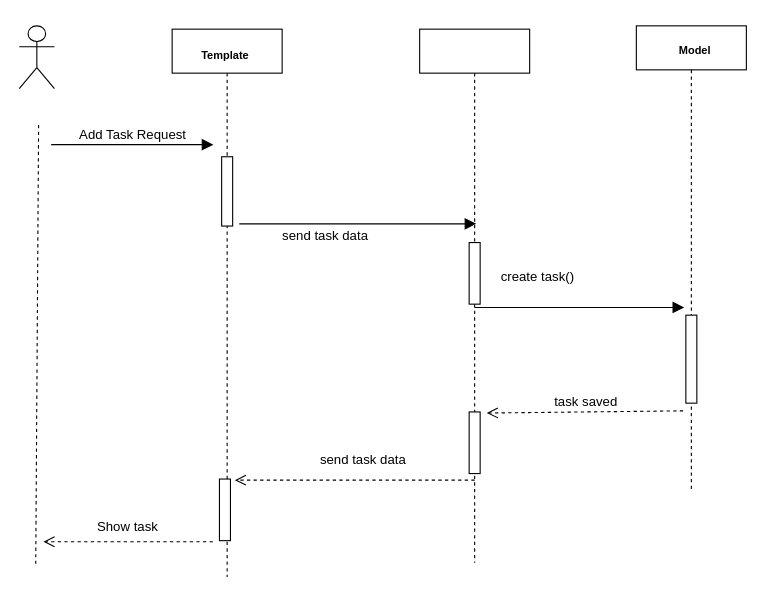
This 766x596 diagram has some shape labels left out. Each missing label, with the centre of its shape:
"User" goes at (x=36, y=57).
"View" goes at (x=474, y=295).
